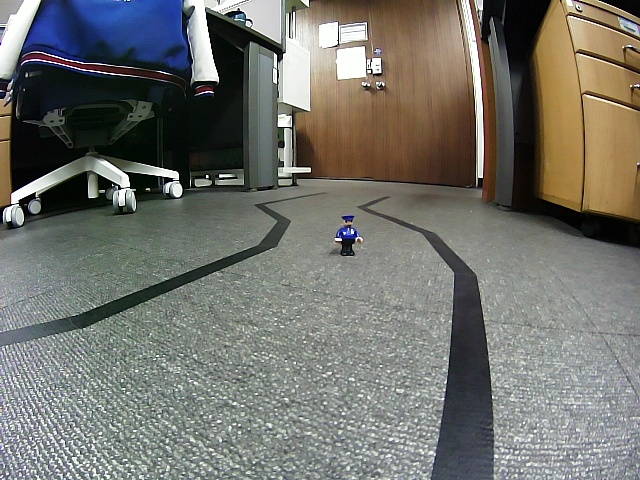person: (334, 215, 363, 258)
